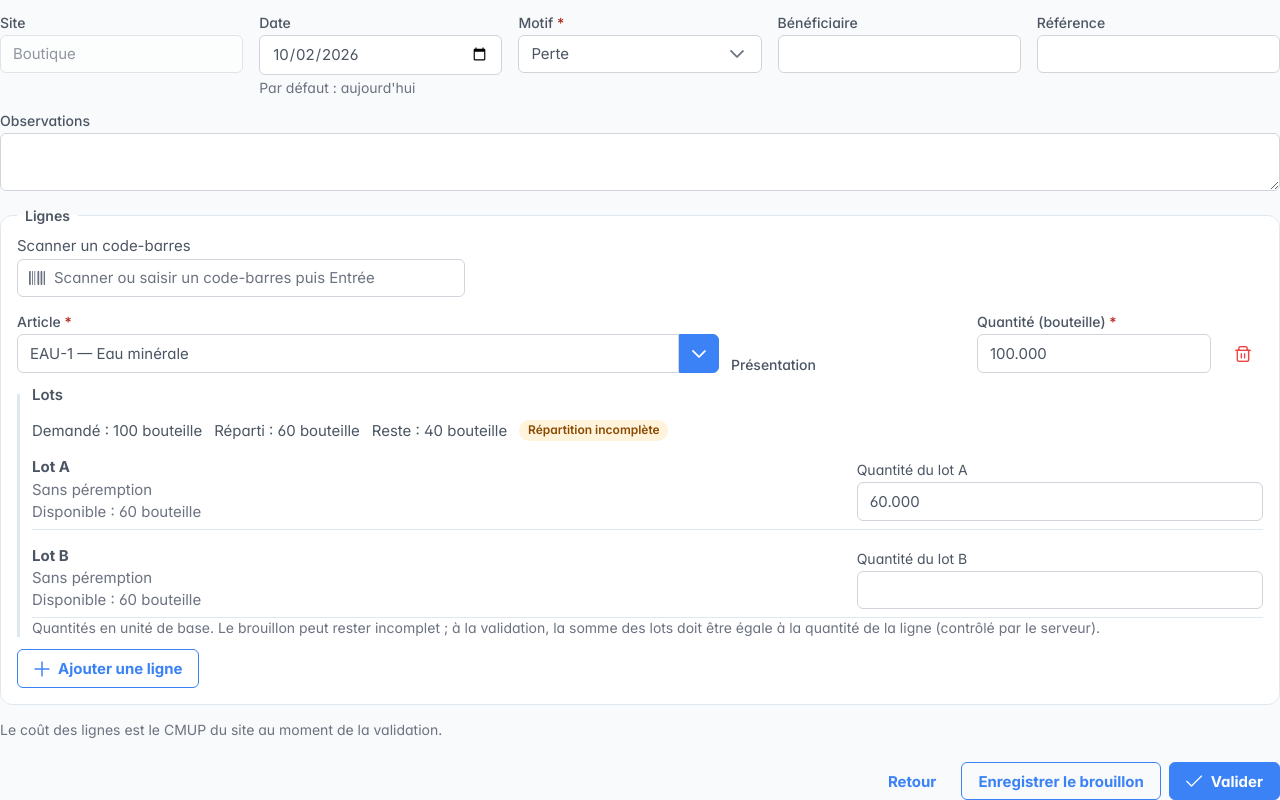
brouillons de documents de stock › brouillon inchangé : validé tel quel, sans réenregistrement
(page scrolled)
Check: the field labelled "Quantité du lot B" is shown, box [857, 571, 1263, 609]
Click the button "Valider": (1224, 781) [1169, 762, 1279, 799]
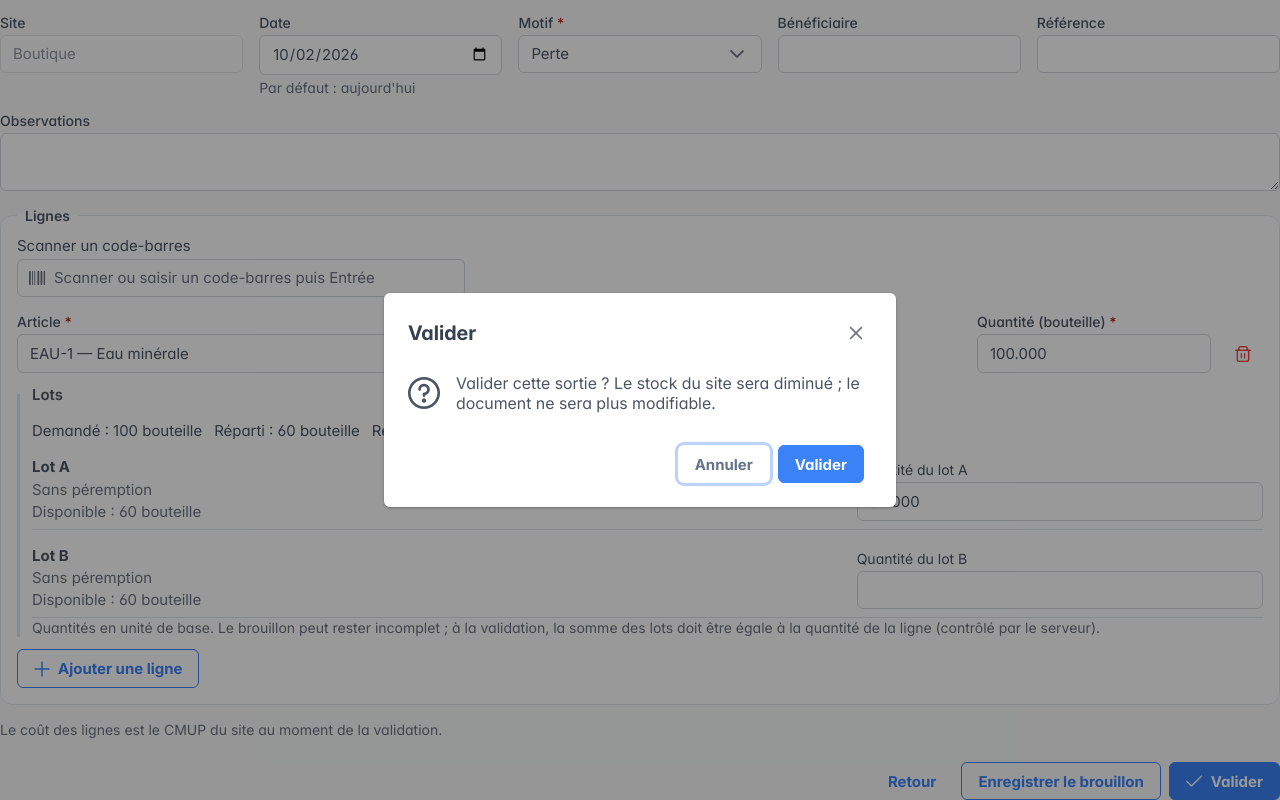
Click the button "Valider": (821, 464) [778, 445, 864, 483]
(page scrolled)
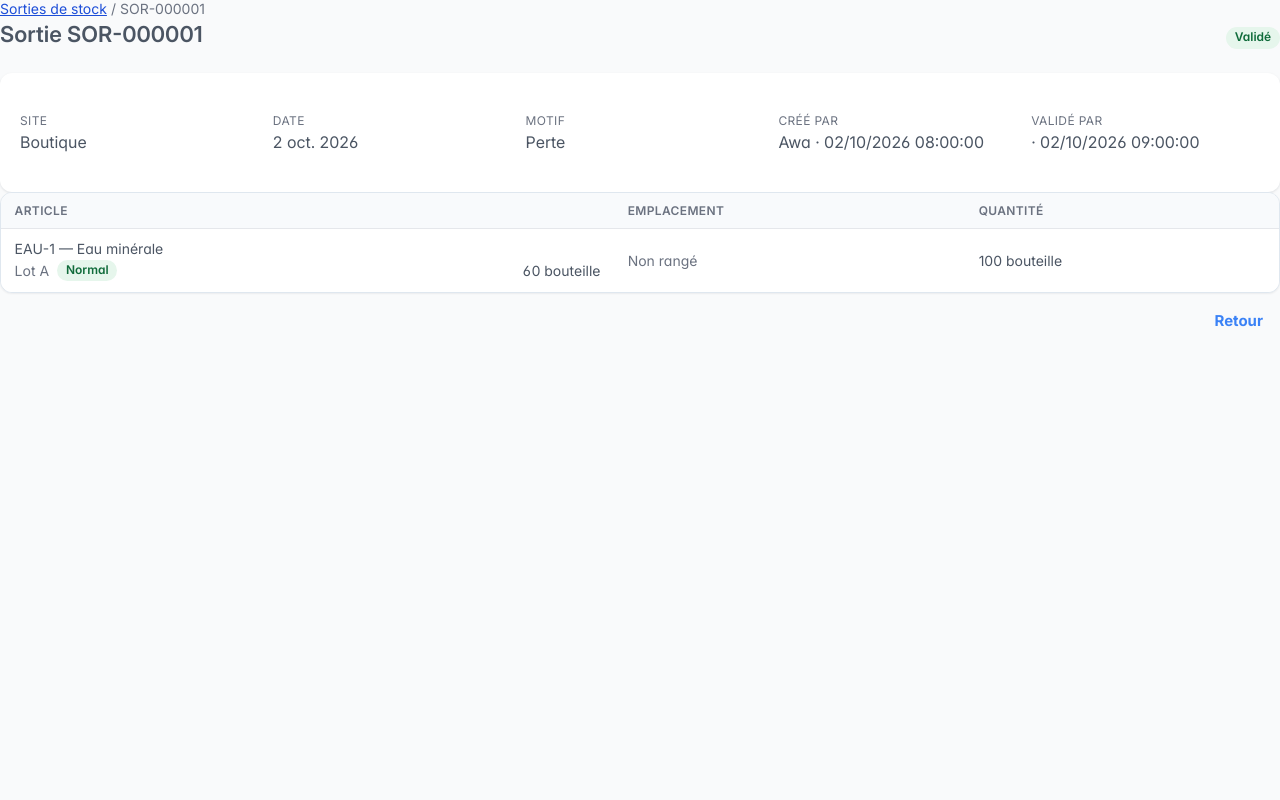
Check: the dialog is gone
